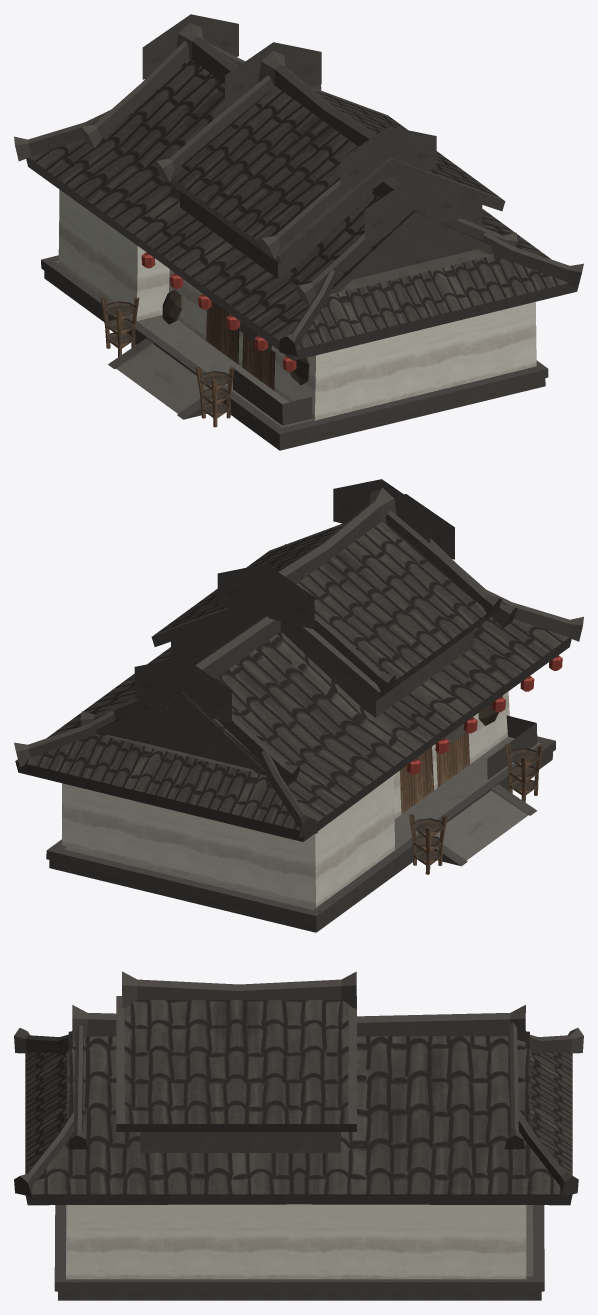
The model's file is TieJiangPu01.fbx.
3 renders of one model, top to bottom at view 1: azimuth 30°, elevation 25°; view 2: azimuth 150°, elevation 25°; view 3: azimuth 270°, elevation 25°, orthographic. The views are drawn at different scales.
Parts seen in each view (by area): view 1: TieJiangPu01; view 2: TieJiangPu01; view 3: TieJiangPu01.
Boxes of the visible parts, x1,y1,x2,y2 form: TieJiangPu01: [14, 14, 583, 450]; TieJiangPu01: [14, 479, 583, 932]; TieJiangPu01: [14, 971, 583, 1300].
Bounding box in the file's own units: 467 × 364 × 685.
